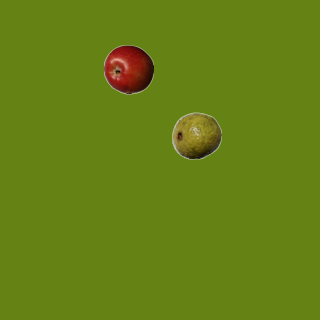Apple Braeburn: (103, 44, 153, 94)
Guava: (171, 110, 221, 160)
